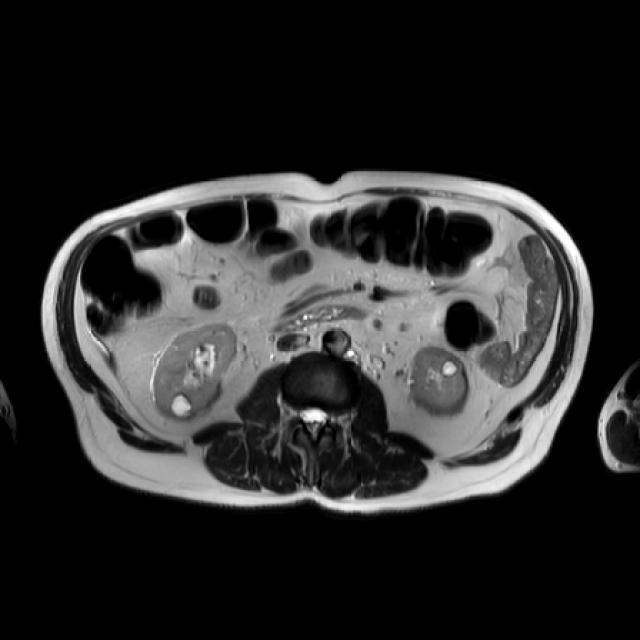sag: (151, 322, 236, 422)
sol: (405, 345, 469, 419)
